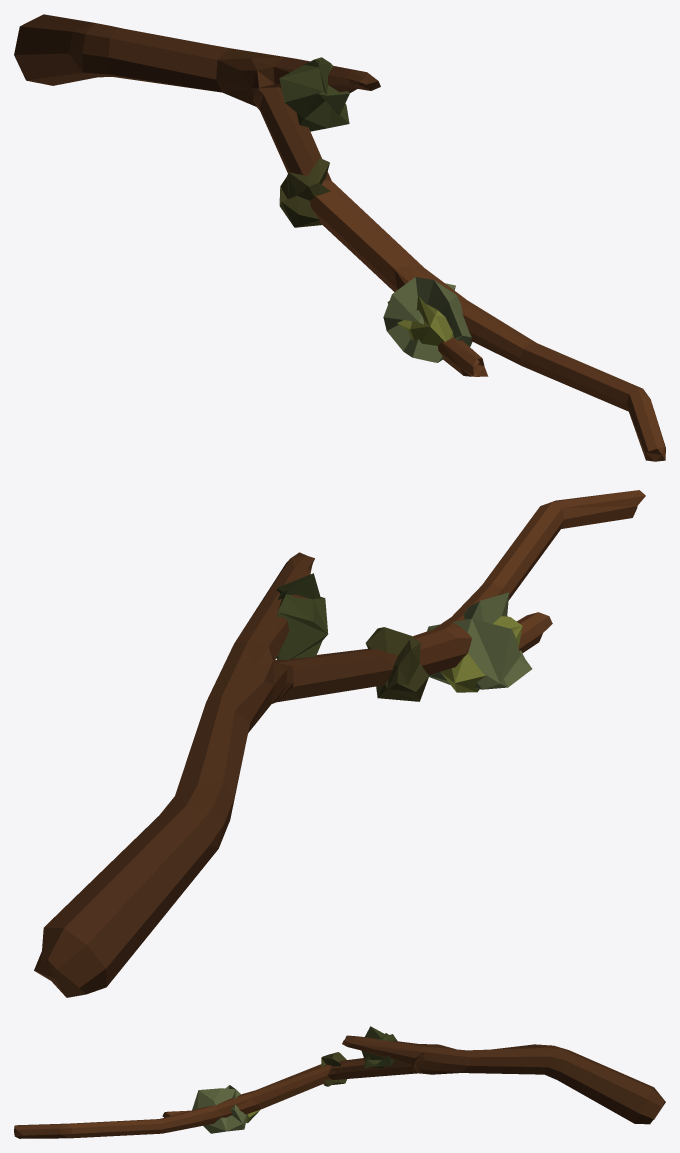
File: Stamm_Springen.fbx
The picture shows the model from 3 angles, top to bottom: view 1: azimuth 30°, elevation 25°; view 2: azimuth 150°, elevation 25°; view 3: azimuth 270°, elevation 25°; orthographic projection. The views are drawn at different scales.
Parts seen in each view (by area): view 1: Cube, Icosphere.020, Icosphere.007, Icosphere.005, Icosphere.021; view 2: Cube, Icosphere.020, Icosphere.007, Icosphere.005, Icosphere.021; view 3: Cube, Icosphere.020, Icosphere.007, Icosphere.005.
Boxes of the visible parts, bbox=[...] form: Cube: bbox=[14, 14, 665, 461]; Icosphere.020: bbox=[383, 277, 472, 362]; Icosphere.007: bbox=[279, 57, 349, 131]; Icosphere.005: bbox=[279, 158, 330, 227]; Icosphere.021: bbox=[387, 296, 453, 345]; Cube: bbox=[34, 490, 645, 997]; Icosphere.020: bbox=[427, 592, 532, 689]; Icosphere.007: bbox=[276, 573, 328, 660]; Icosphere.005: bbox=[365, 627, 428, 701]; Icosphere.021: bbox=[440, 615, 522, 692]; Cube: bbox=[14, 1035, 665, 1138]; Icosphere.020: bbox=[192, 1085, 247, 1133]; Icosphere.007: bbox=[361, 1026, 397, 1068]; Icosphere.005: bbox=[321, 1052, 346, 1086].
Bounding box in the file's own units: 13.36 × 16.35 × 91.1.
